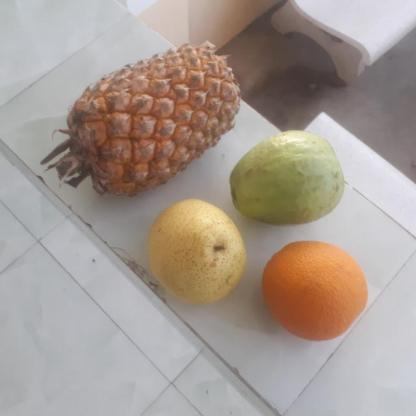guava: (228, 133, 342, 223)
orange: (256, 238, 367, 340)
pear: (142, 200, 249, 304)
pineapple: (62, 44, 233, 198)
